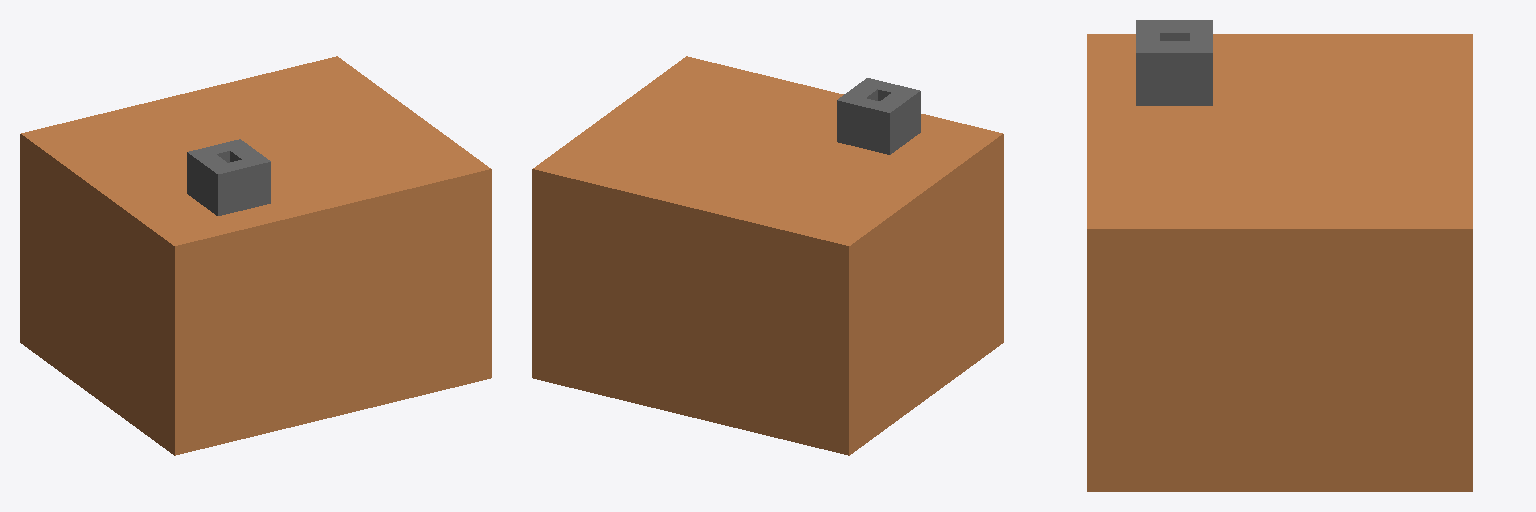
The robot description file, URDF, robot "peg_in_hole_tolerances_scenes_scene_0013_tol01":
<?xml version="1.0"?>
<robot name="peg_in_hole_tolerances_scenes_scene_0013_tol01">
  <material name="wood"><color rgba="0.82 0.56 0.35 1.0"/></material>
  <material name="hole_grey"><color rgba="0.4706 0.4706 0.4706 1.0"/></material>
  <link name="box">
    <visual>
      <origin xyz="0.000000 0.000000 0.000000" rpy="0 0 0"/>
      <geometry><box size="0.475000 0.400000 0.300000"/></geometry>
      <material name="wood"/>
    </visual>
    <collision>
      <origin xyz="0.000000 0.000000 0.000000" rpy="0 0 0"/>
      <geometry><box size="0.475000 0.400000 0.300000"/></geometry>
    </collision>
    <visual>
      <origin xyz="-0.103080 -0.108855 0.155000" rpy="0 0 0"/>
      <geometry><box size="0.080000 0.080000 0.010000"/></geometry>
      <material name="hole_grey"/>
    </visual>
    <collision>
      <origin xyz="-0.103080 -0.108855 0.155000" rpy="0 0 0"/>
      <geometry><box size="0.080000 0.080000 0.010000"/></geometry>
    </collision>
    <visual>
      <origin xyz="-0.077797 -0.108855 0.185000" rpy="0 0 0"/>
      <geometry><box size="0.029435 0.080000 0.050000"/></geometry>
      <material name="hole_grey"/>
    </visual>
    <collision>
      <origin xyz="-0.077797 -0.108855 0.185000" rpy="0 0 0"/>
      <geometry><box size="0.029435 0.080000 0.050000"/></geometry>
    </collision>
    <visual>
      <origin xyz="-0.128362 -0.108855 0.185000" rpy="0 0 0"/>
      <geometry><box size="0.029435 0.080000 0.050000"/></geometry>
      <material name="hole_grey"/>
    </visual>
    <collision>
      <origin xyz="-0.128362 -0.108855 0.185000" rpy="0 0 0"/>
      <geometry><box size="0.029435 0.080000 0.050000"/></geometry>
    </collision>
    <visual>
      <origin xyz="-0.103080 -0.081073 0.185000" rpy="0 0 0"/>
      <geometry><box size="0.021129 0.024435 0.050000"/></geometry>
      <material name="hole_grey"/>
    </visual>
    <collision>
      <origin xyz="-0.103080 -0.081073 0.185000" rpy="0 0 0"/>
      <geometry><box size="0.021129 0.024435 0.050000"/></geometry>
    </collision>
    <visual>
      <origin xyz="-0.103080 -0.136638 0.185000" rpy="0 0 0"/>
      <geometry><box size="0.021129 0.024435 0.050000"/></geometry>
      <material name="hole_grey"/>
    </visual>
    <collision>
      <origin xyz="-0.103080 -0.136638 0.185000" rpy="0 0 0"/>
      <geometry><box size="0.021129 0.024435 0.050000"/></geometry>
    </collision>
    <inertial>
      <mass value="500"/>
      <friction value="1.0"/>
      <inertia ixx="1000.0" ixy="0.0" ixz="0.0" iyy="1000.0" iyz="0.0" izz="1000.0"/>
    </inertial>
  </link>
</robot>

--- What the picture shows (computed from the rendered views, not written in the file) ---
Views: 3 orthographic renders of the robot side by side, from view 1: azimuth 30°, elevation 25°; view 2: azimuth 150°, elevation 25°; view 3: azimuth 270°, elevation 25°.
Model peg_in_hole_tolerances_scenes_scene_0013_tol01 with 1 links and 0 joints (none), rooted at box, posed every joint at zero.
Visible links, largest first — view 1: box; view 2: box; view 3: box.
Link boxes in pixels (x1=…): box: x1=20, y1=56, x2=491, y2=455; box: x1=532, y1=56, x2=1003, y2=455; box: x1=1087, y1=20, x2=1472, y2=491.
Bounding box of the posed robot: 0.475 × 0.4 × 0.36 m (x, y, z).
Geometry: primitives only (box / cylinder / sphere), no mesh files.
